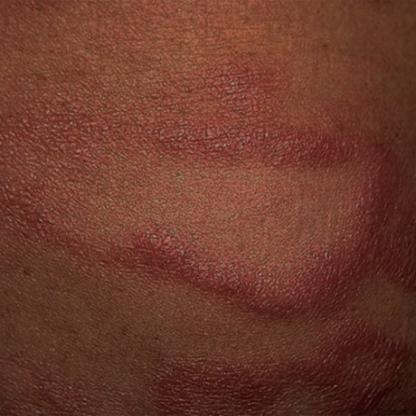Leprosy: (0, 98, 415, 415)
